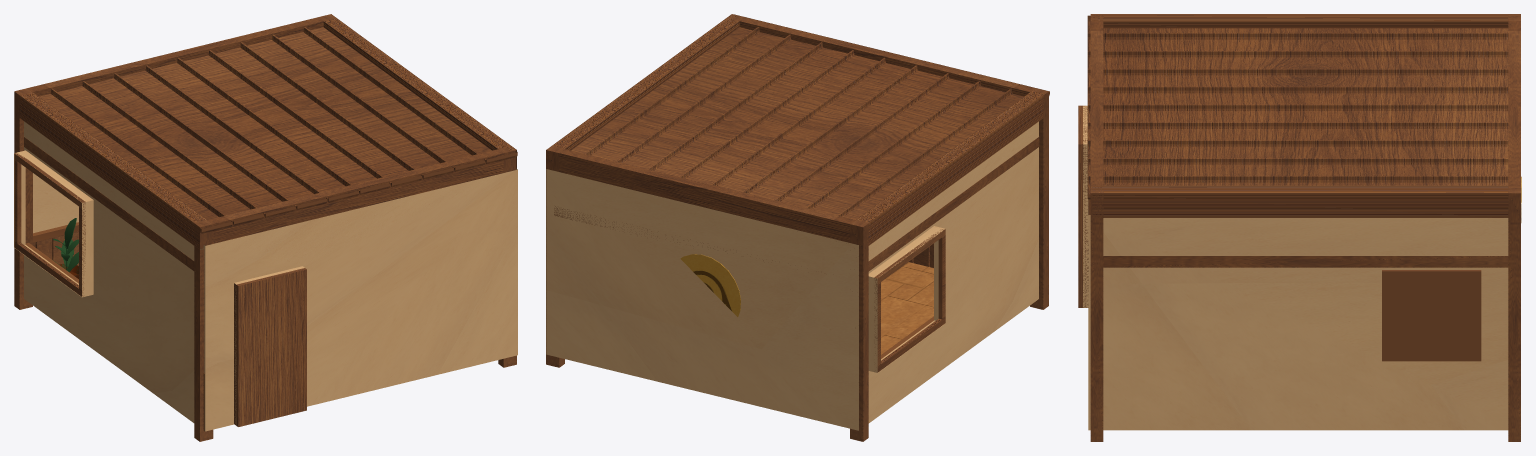
File: hokage_office_3d_model.glb
3 renders of one model, left to right at view 1: azimuth 30°, elevation 25°; view 2: azimuth 150°, elevation 25°; view 3: azimuth 270°, elevation 25°, orthographic. The views are drawn at different scales.
Parts seen in each view (by area): view 1: Object_13, Object_2, Object_6, Object_12; view 2: Object_2, Object_13, Object_7, Object_5; view 3: Object_13, Object_2, Object_6.
Part boxes in pixels (<box>): Object_13: <box>14,14,517,441</box>; Object_2: <box>14,121,517,431</box>; Object_6: <box>234,268,306,426</box>; Object_12: <box>52,218,78,278</box>; Object_2: <box>546,121,1038,430</box>; Object_13: <box>546,14,1049,441</box>; Object_7: <box>881,262,933,354</box>; Object_5: <box>680,254,740,316</box>; Object_13: <box>1087,14,1520,441</box>; Object_2: <box>1083,105,1508,430</box>; Object_6: <box>1078,105,1090,307</box>.
Size of the model in its own units: 16.68 by 10.48 by 16.93.
11 materials, 8 textured.
